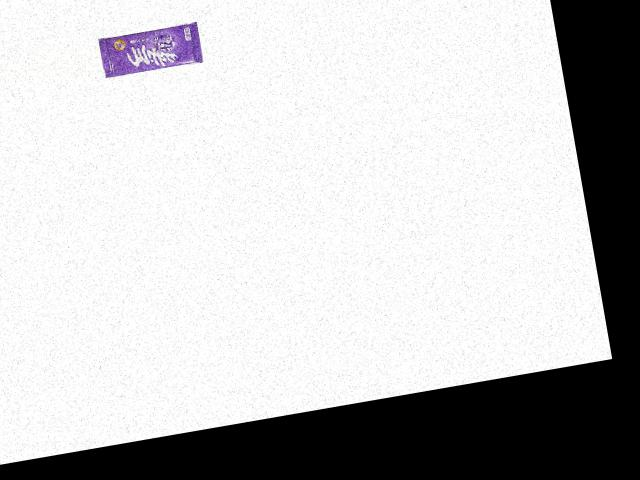chocolate: (96, 15, 209, 81)
